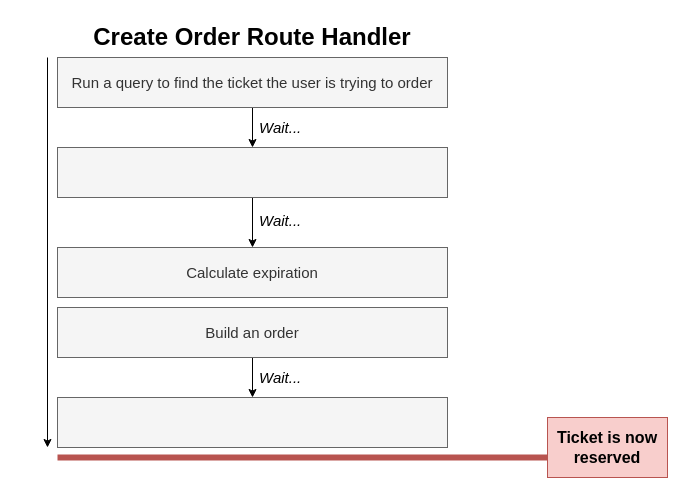
The diagram is 685 pixels wide and 495 high, and some of its shapes have lost their labels. The shapes that lost their labels are listed below. From the top down, each one's centre as x and y in pixels, then its label:
At (x=252, y=172): "Run a query to see if there is an un-cancelled order referencing this ticket".
At (x=252, y=422): "Save the order".
